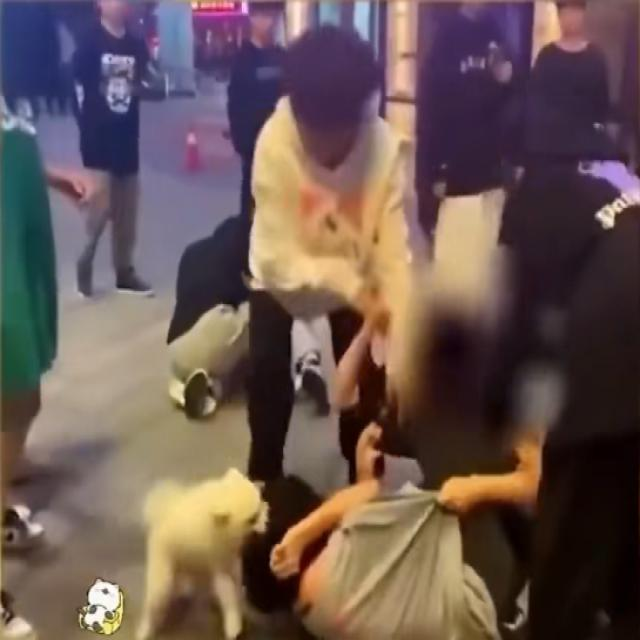fight: (266, 364, 542, 638)
nofight: (260, 45, 397, 471), (70, 0, 158, 305), (424, 0, 519, 206), (232, 0, 302, 163), (542, 6, 606, 125)
